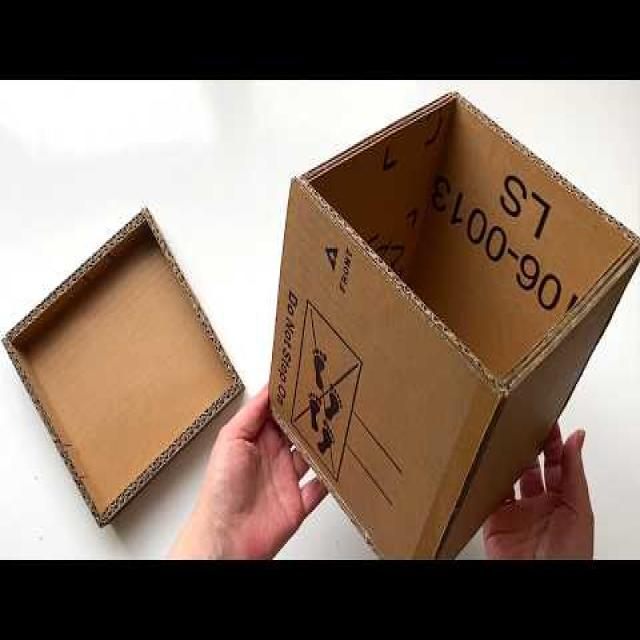cardboard_box: (260, 73, 639, 566), (0, 186, 263, 544)
